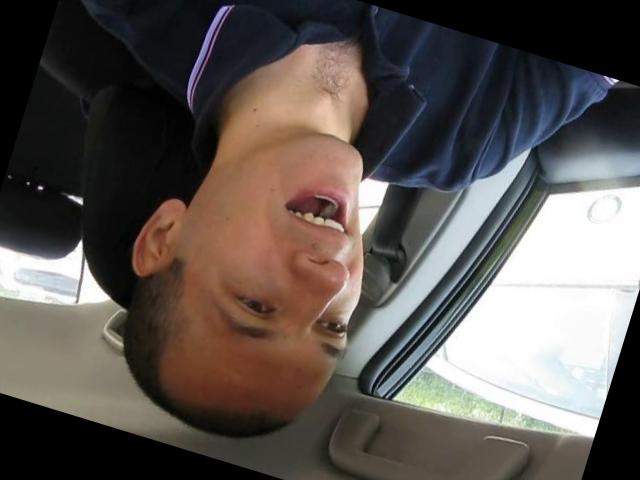eye_open: (222, 282, 287, 328), (312, 312, 350, 343)
face: (174, 105, 406, 386)
mouth_open: (272, 169, 368, 248)
